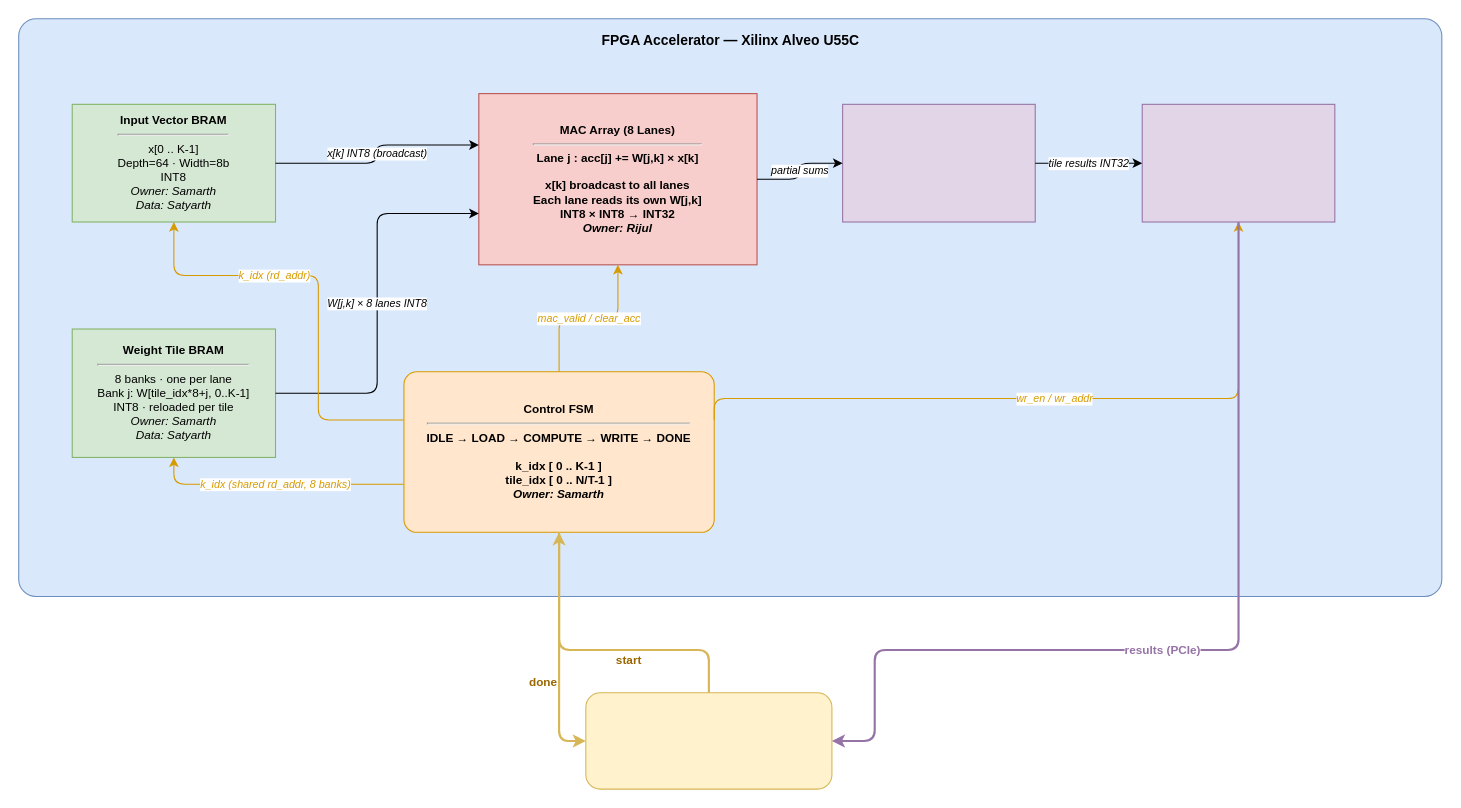
The diagram is 1461 pixels wide and 808 high, and some of its shapes have lost their labels. The centre of each missing label's shape, as x and y in pixels:
Accumulator Regs 8 × INT32 Cleared at each tile boundary Owner: Rijul: the point at 938,162
Host CPU Tokenization · Control · Baseline Compute Owner: Om: the point at 708,740
Output Buffer 64 × INT32 y[0 .. N-1] Owner: Samarth / Om: the point at 1238,162
